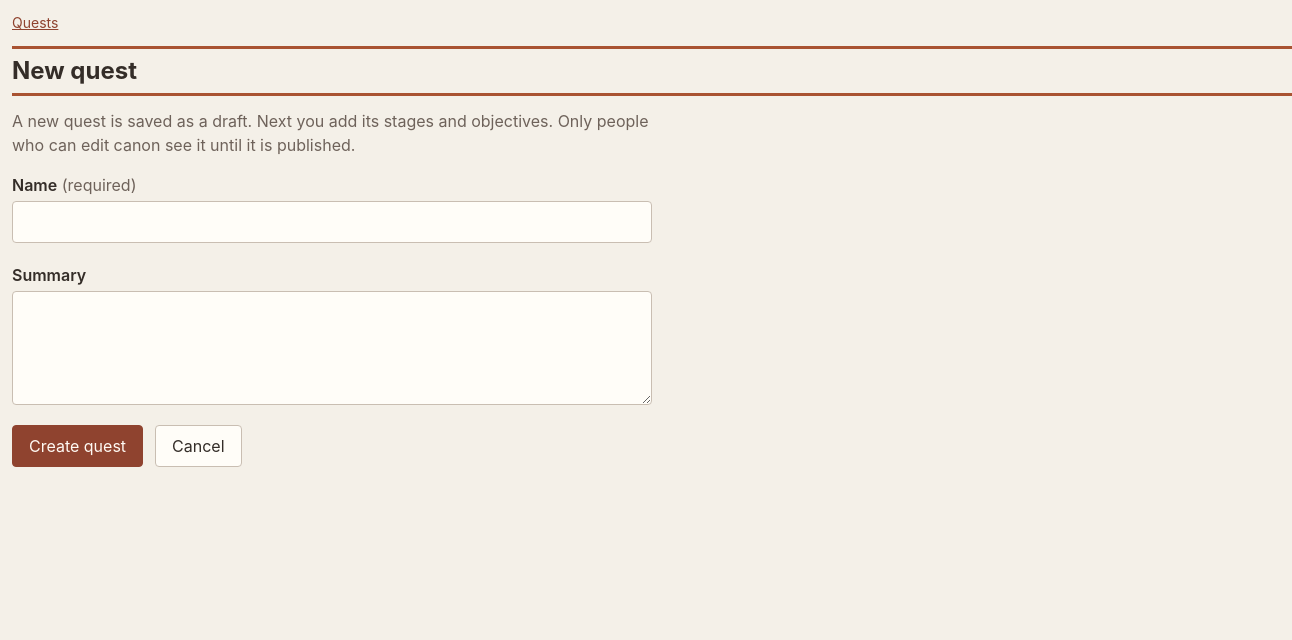
Test: CreateQuestPage › requires a name and sends nothing otherwise
The width and height of the screenshot is (1292, 640).
Expected: the field labelled "Name (required)" is shown, [12, 201, 652, 243]
What coordinates should you click on to do the following:
click the button "Create quest"
I would click on:
 (78, 446)
Its box is [12, 425, 143, 467].
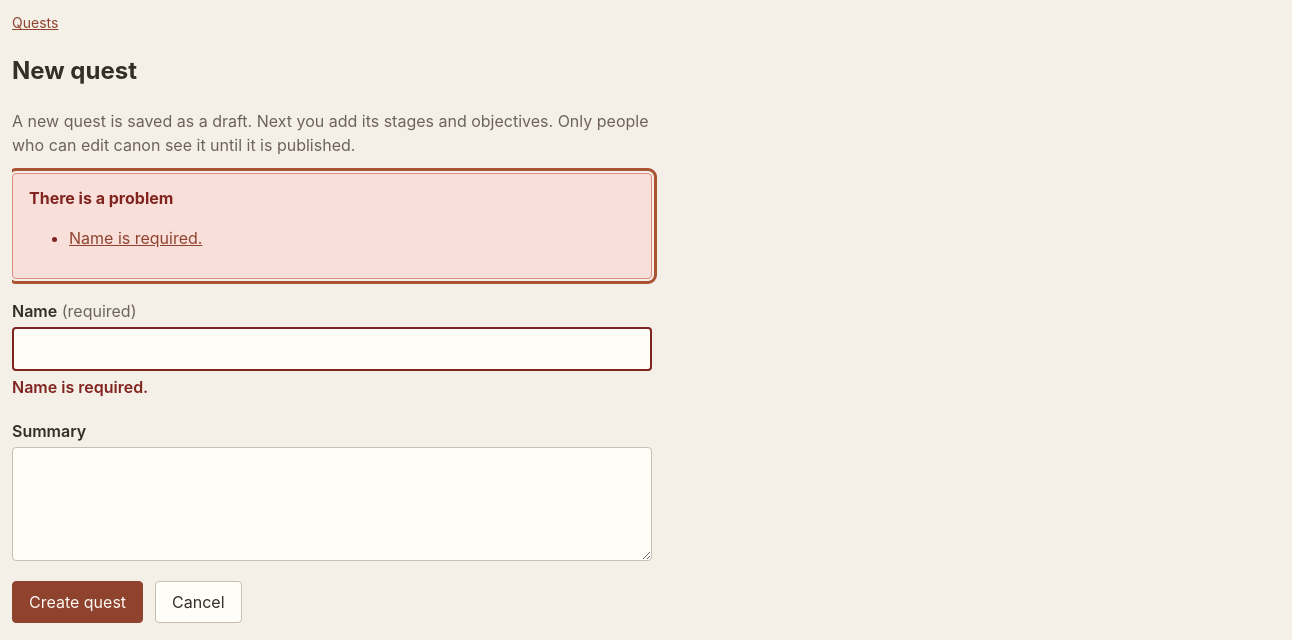
Expected: the message shows "Name is required.", [69, 228, 202, 248]
